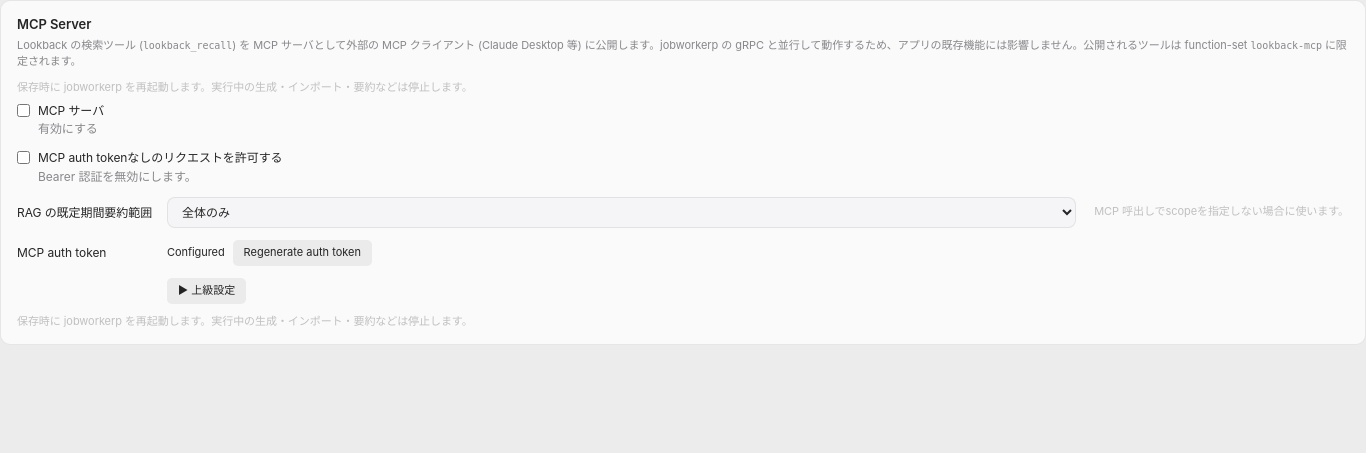
Scenario: McpServerCard › rotates an existing token immediately while MCP is disabled
Expected: the text "Configured" is shown, [167,245,225,261]
Click the button "Regenerate auth token". click: (302, 253)
box: [233,240,372,266]
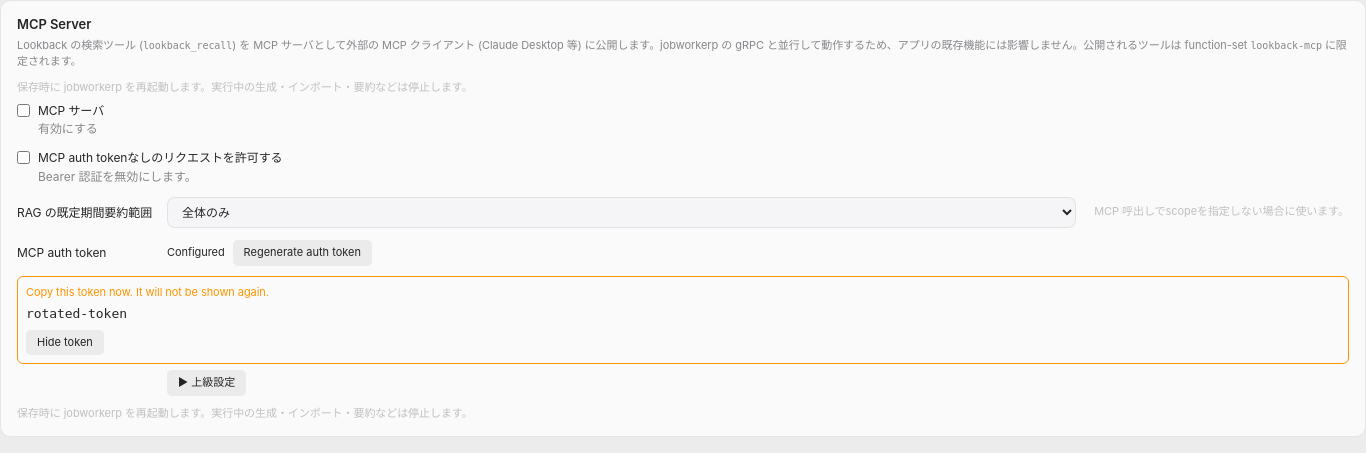
Expected: the text "rotated-token" is shown, [26,306,127,321]
